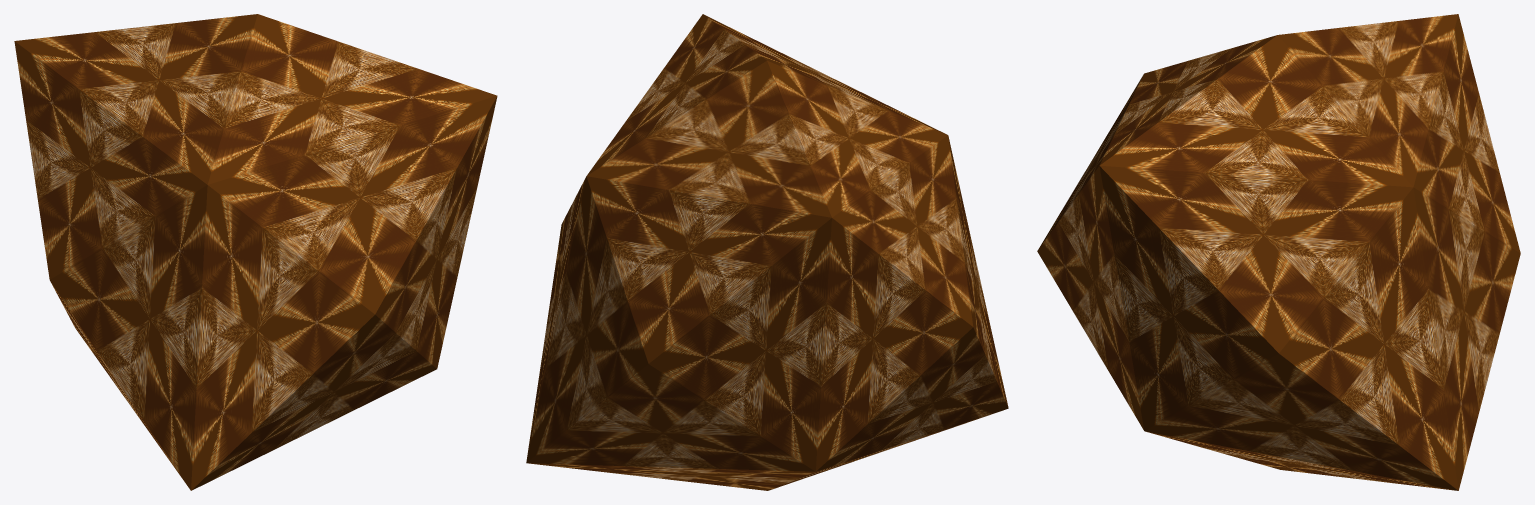
File: 20HexakisTetrahedron.obj
3 renders of one model, left to right at view 1: azimuth 30°, elevation 25°; view 2: azimuth 150°, elevation 25°; view 3: azimuth 270°, elevation 25°, orthographic.
Size of the model in its own units: 9.9 by 9.85 by 9.9.
1 material, 1 textured.
